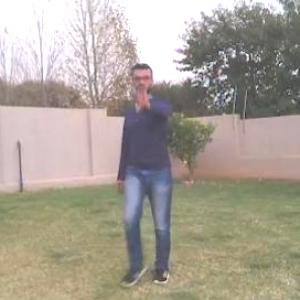takeoff-hand: (128, 77, 152, 113)
